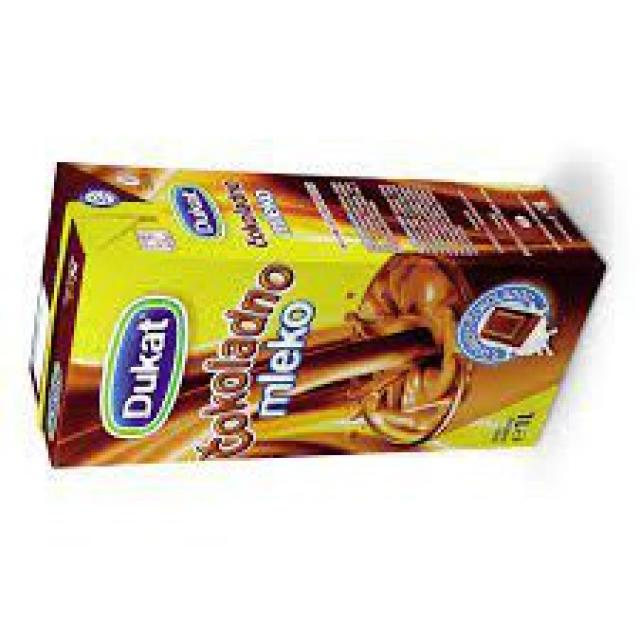non_white_jug: (26, 157, 611, 468)
